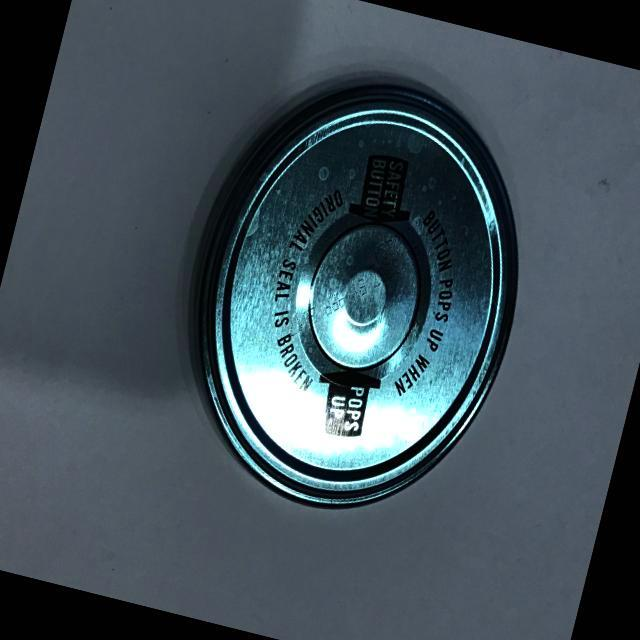metal: (118, 32, 579, 600)
